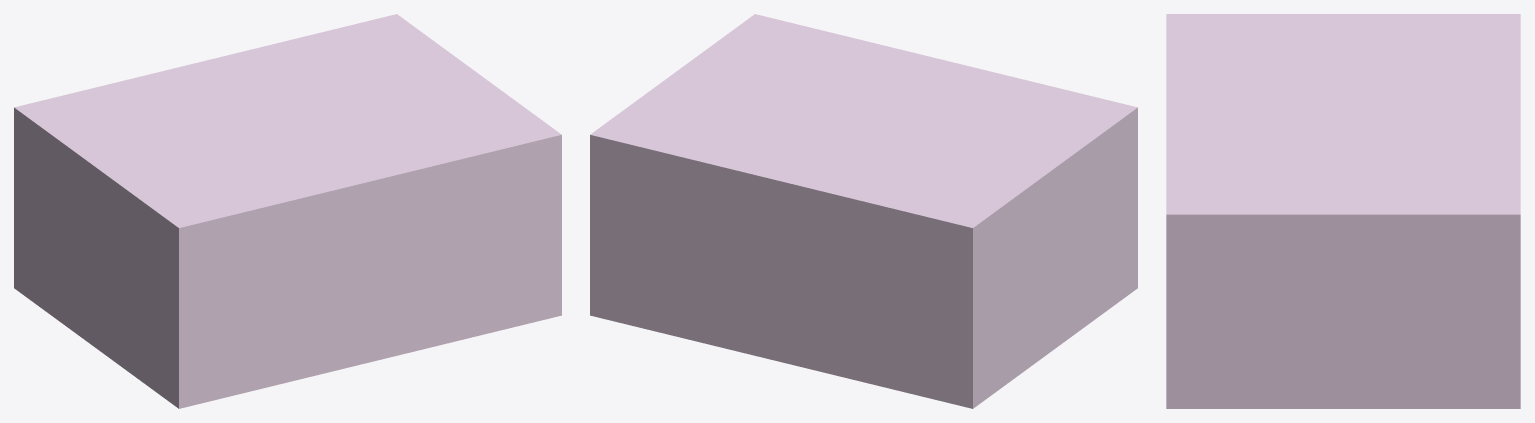
The model's file is aim_redline_extracted.fbx.
3 renders of one model, left to right at view 1: azimuth 30°, elevation 25°; view 2: azimuth 150°, elevation 25°; view 3: azimuth 270°, elevation 25°, orthographic. The views are drawn at different scales.
Parts seen in each view (by area): view 1: world_geometry; view 2: world_geometry; view 3: world_geometry.
Part boxes in pixels (box(x1,y1,x2,y2)): world_geometry: box(14, 14, 561, 408); world_geometry: box(590, 14, 1137, 408); world_geometry: box(1166, 14, 1520, 408).
Size of the model in its own units: 4830 by 2179 by 3605.
